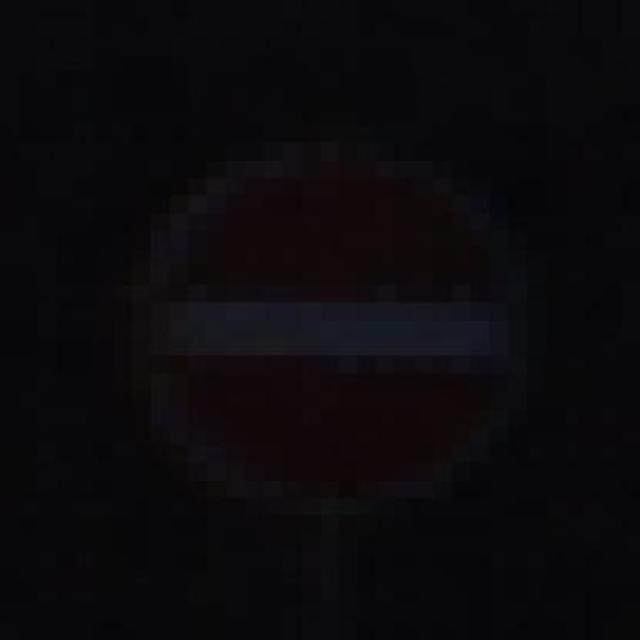No Entry: (75, 106, 583, 534)
